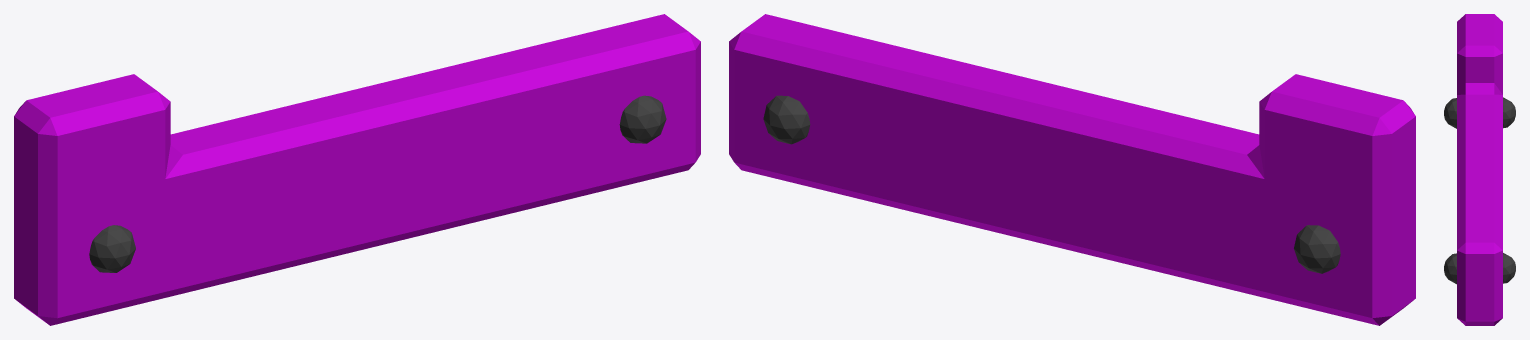
File: BarLB.fbx
The picture shows the model from 3 angles, left to right: view 1: azimuth 30°, elevation 25°; view 2: azimuth 150°, elevation 25°; view 3: azimuth 270°, elevation 25°; orthographic projection. The views are drawn at different scales.
Visible parts, largest first — view 1: BarB; view 2: BarB; view 3: BarB.
Part boxes in pixels (bbox=[...]): BarB: bbox=[14, 14, 700, 325]; BarB: bbox=[729, 14, 1415, 325]; BarB: bbox=[1444, 14, 1515, 325].
Size of the model in its own units: 1000 by 300 by 157.
